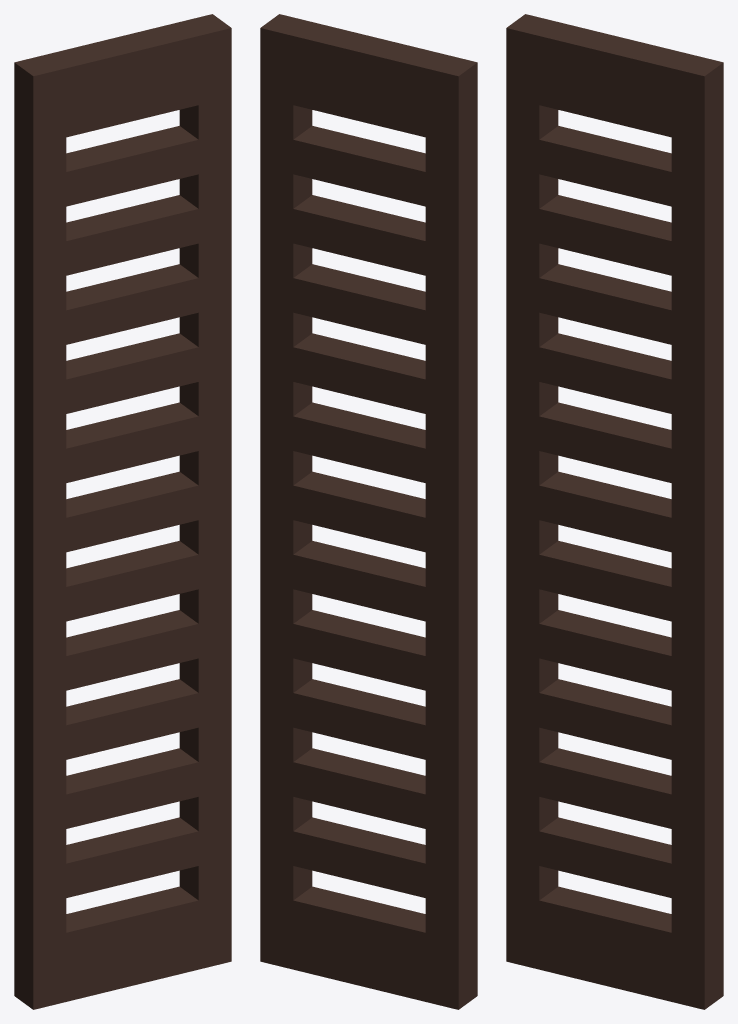
Rendered from TallBuilding02-13.obj.
The picture shows the model from 3 angles, left to right: view 1: azimuth 30°, elevation 25°; view 2: azimuth 150°, elevation 25°; view 3: azimuth 330°, elevation 25°; orthographic projection.
Bounding box in the file's own units: 0.6 × 2.7 × 0.1.
Materials: 1 (1 with a texture image).
